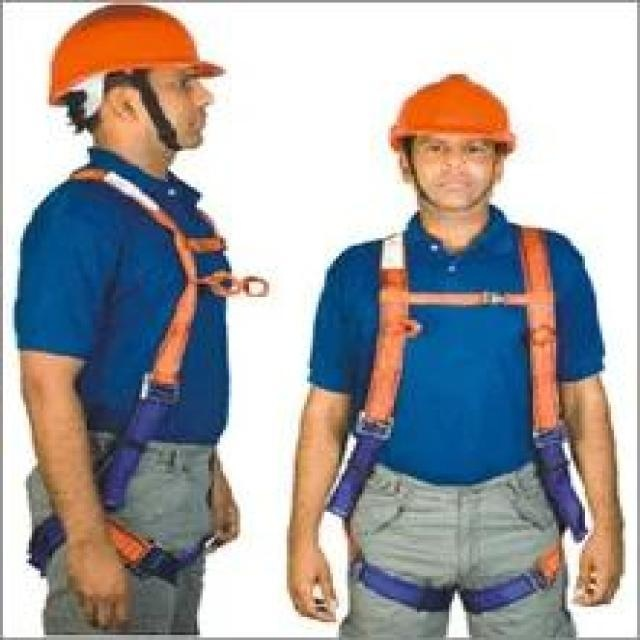Arnes_seguridad: (340, 224, 575, 616), (27, 166, 230, 586)
